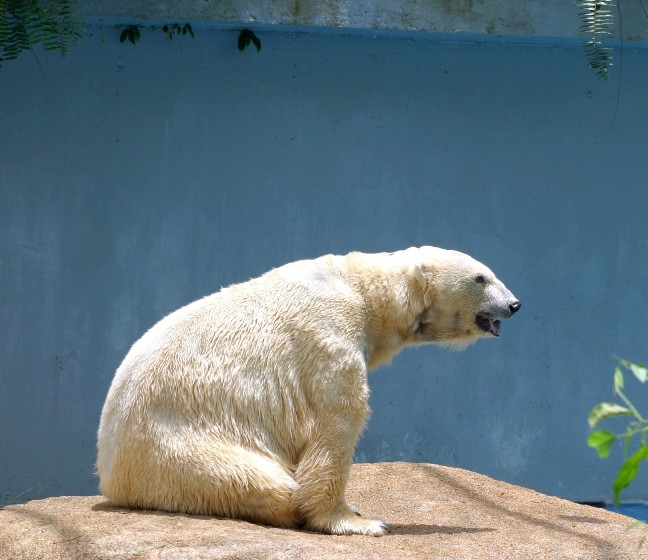Polar Bear: (92, 232, 517, 530)
